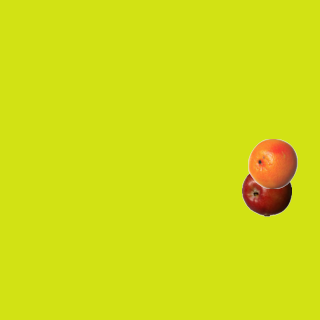Apple Braeburn: (241, 166, 291, 216)
Grapefruit Pink: (247, 138, 297, 188)
